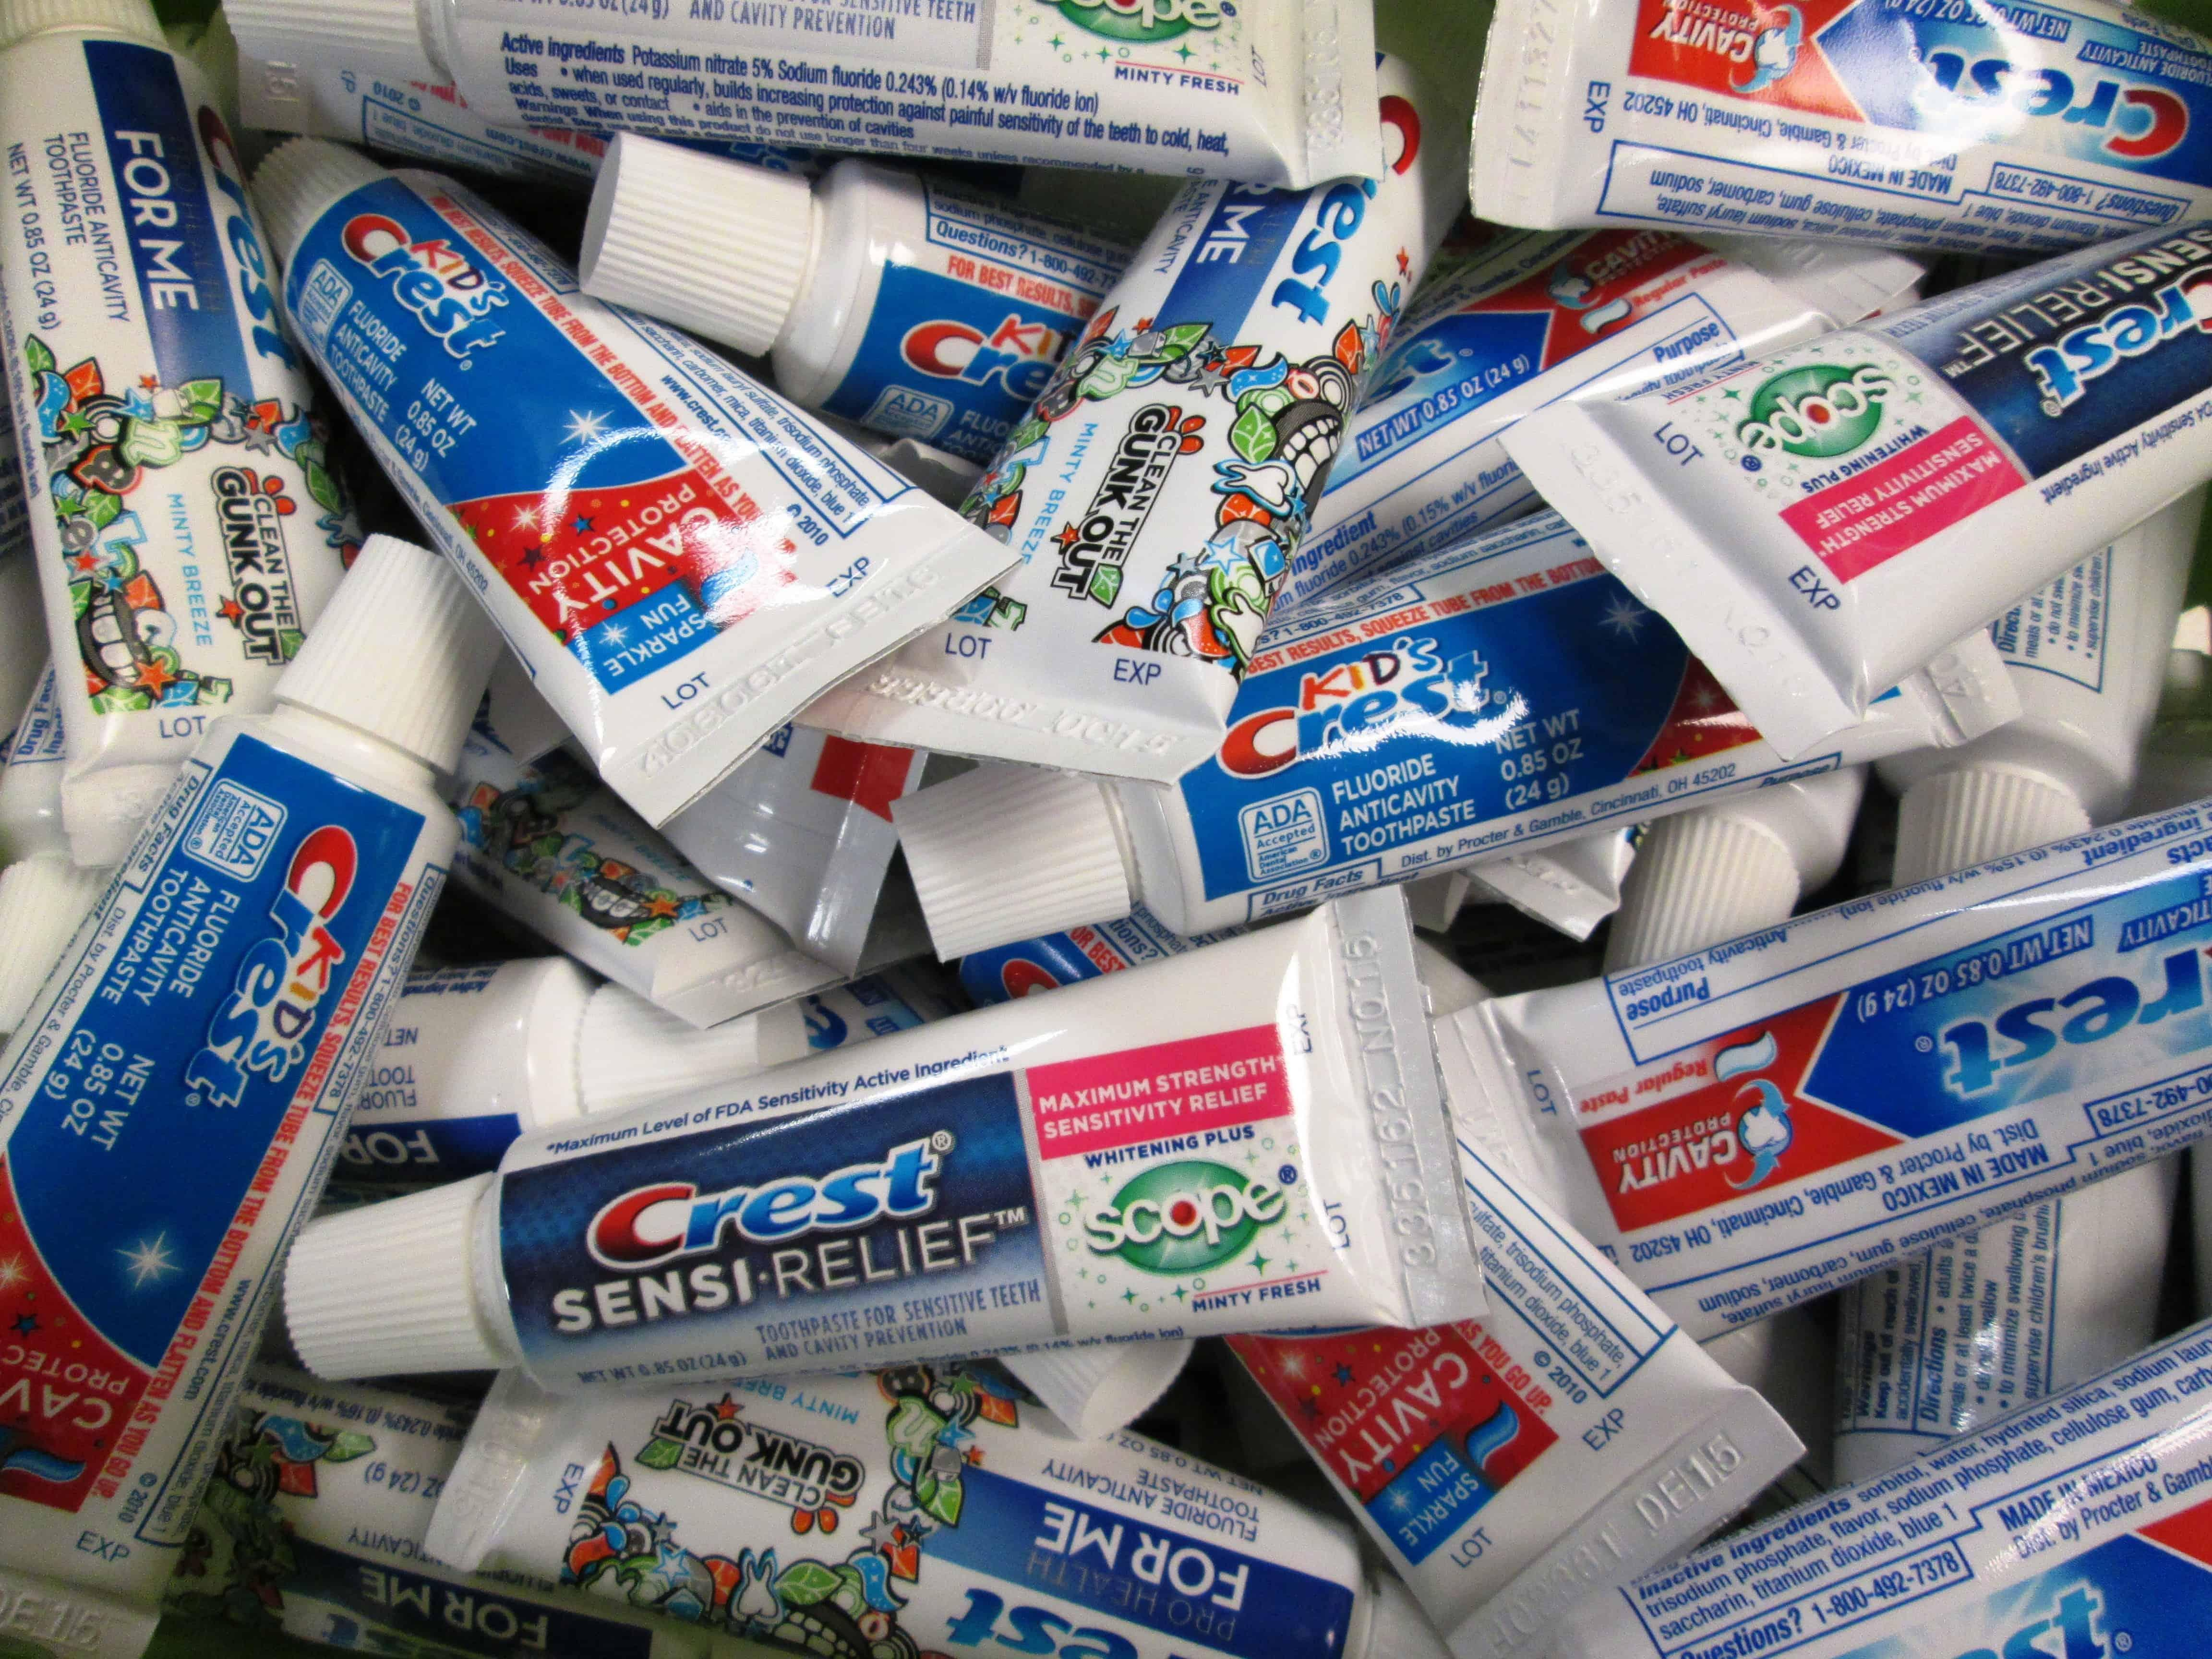toothpaste: (268, 857, 1494, 1427), (0, 500, 550, 1649), (240, 112, 979, 805), (801, 23, 1477, 751), (1390, 788, 2212, 1310), (392, 1262, 1381, 1659), (1527, 225, 2212, 732), (0, 0, 361, 795), (1545, 1321, 2207, 1659), (206, 0, 1409, 185), (1470, 0, 2212, 263), (519, 113, 1099, 448)
